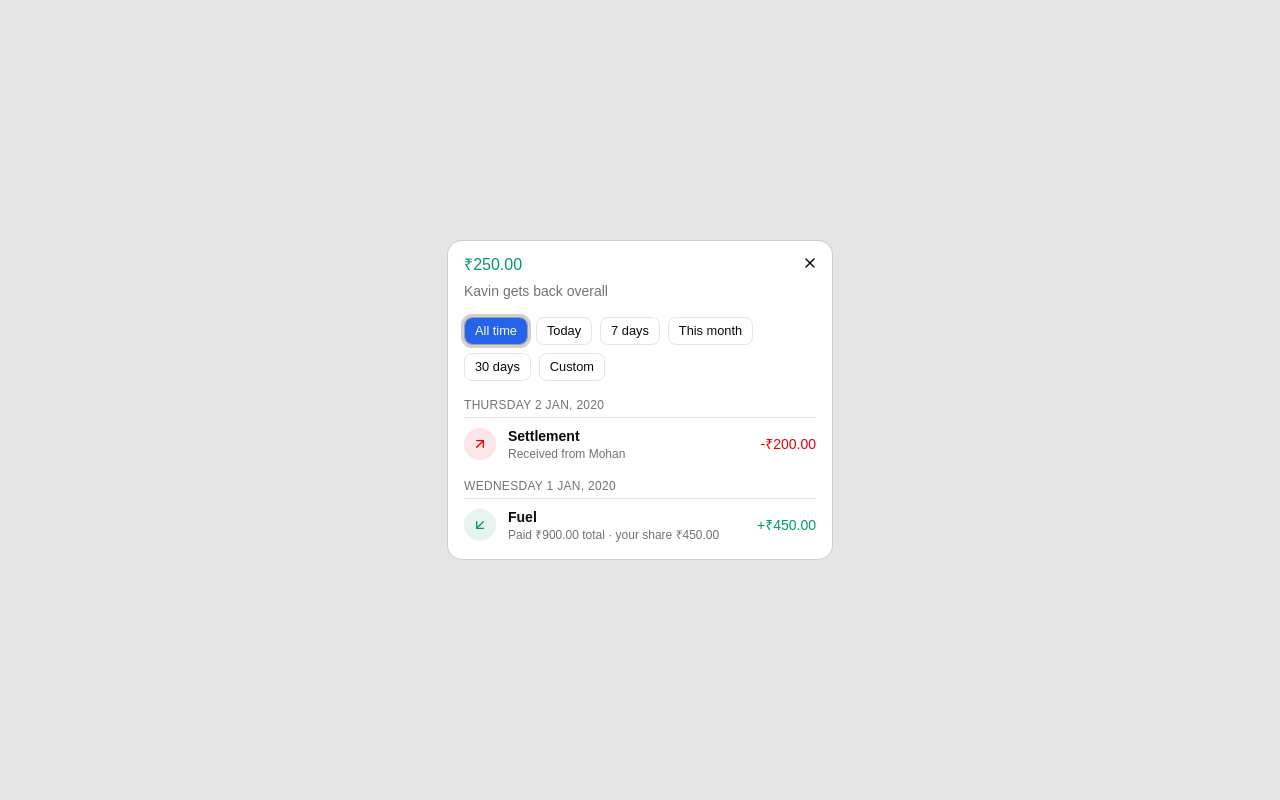
Test: BreakdownModal › shows a net-change line and narrows the rows for a bounded preset
Step 1. Click the button "Today" → click(564, 331), box top-left (536, 317), bottom-right (592, 345)
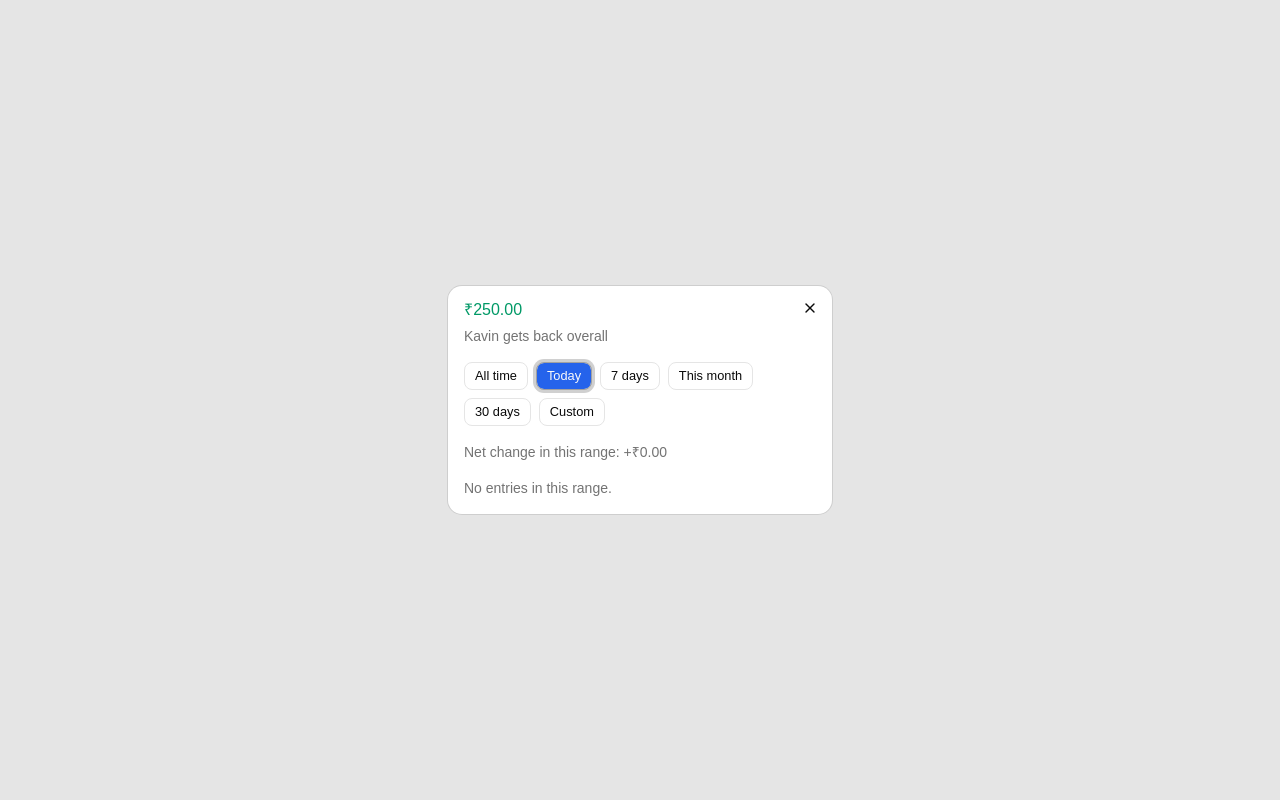
Check: the text "No entries in this range." is shown, box top-left (464, 480), bottom-right (612, 496)
Check: the text "Net change in this range: +₹0.00" is shown, box top-left (464, 444), bottom-right (667, 460)
